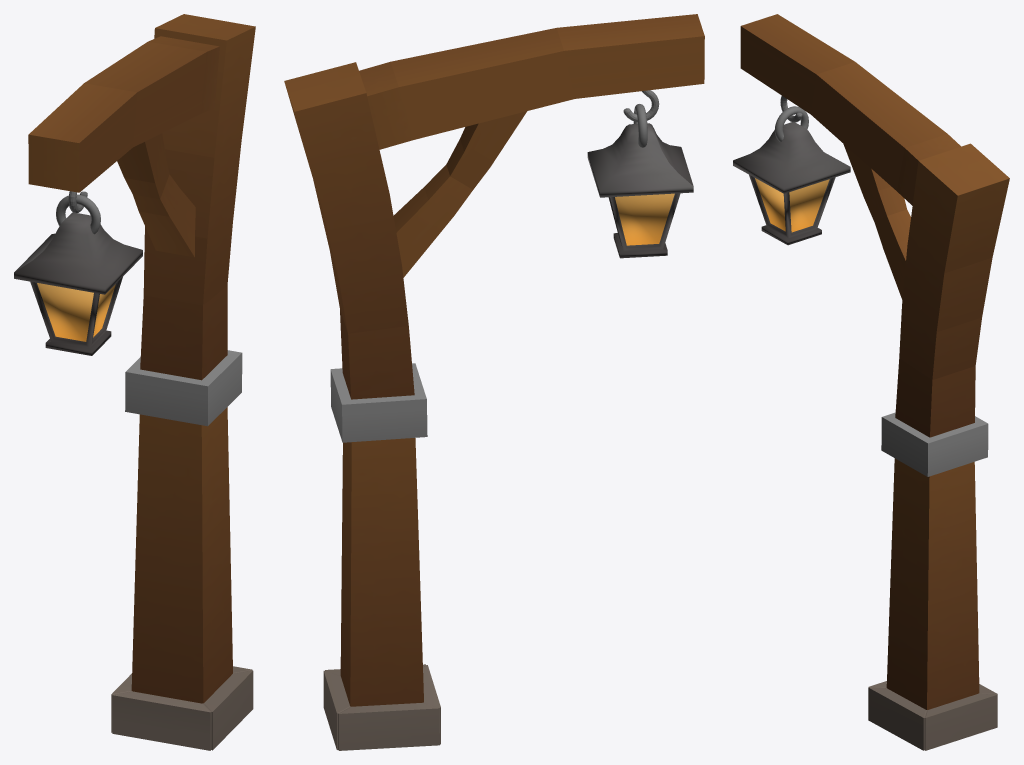
File: obj_faro.fbx
3 renders of one model, left to right at view 1: azimuth 30°, elevation 25°; view 2: azimuth 150°, elevation 25°; view 3: azimuth 270°, elevation 25°, orthographic. The views are drawn at different scales.
Parts seen in each view (by area): view 1: Cube.035; view 2: Cube.035; view 3: Cube.035.
Boxes of the visible parts, x1,y1,x2,y2 form: Cube.035: (14, 14, 255, 750); Cube.035: (284, 14, 704, 750); Cube.035: (733, 14, 1009, 750).
Bounding box in the file's own units: 83.66 × 70.38 × 170.
